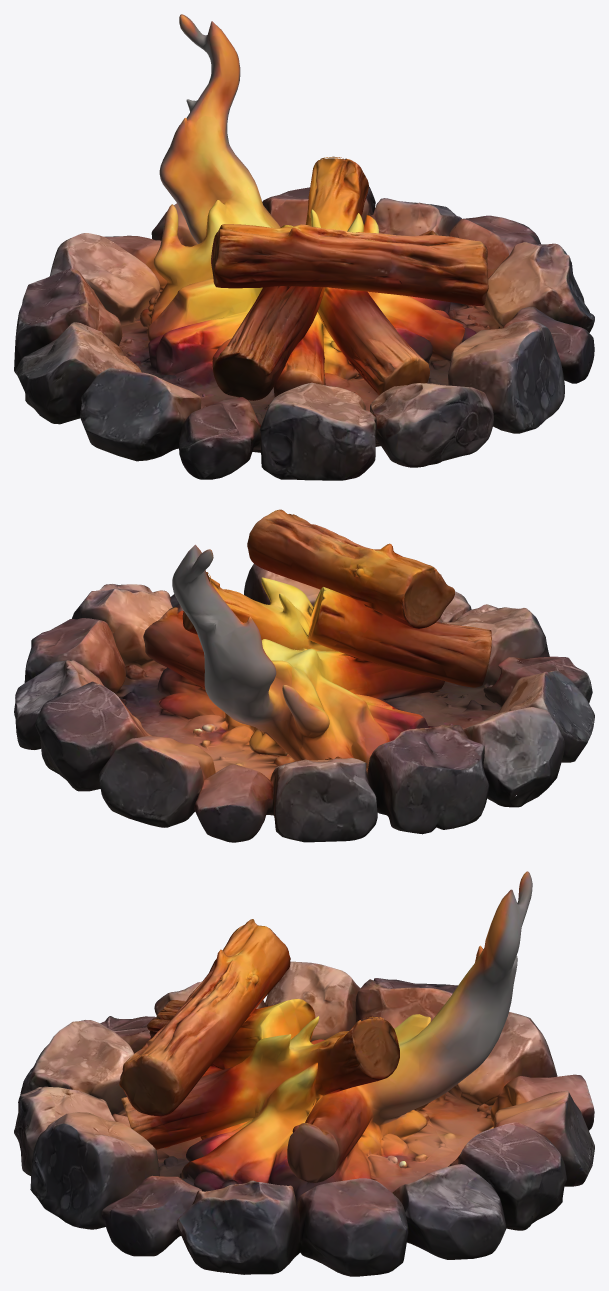
Rendered from campfire.glb.
3 views of the same model, one above another, from view 1: azimuth 30°, elevation 25°; view 2: azimuth 150°, elevation 25°; view 3: azimuth 270°, elevation 25° (orthographic). The views are drawn at different scales.
Visible parts, largest first — view 1: node_ebf617e1-01b0-4030-bcc8-7565f6062b28; view 2: node_ebf617e1-01b0-4030-bcc8-7565f6062b28; view 3: node_ebf617e1-01b0-4030-bcc8-7565f6062b28.
Part boxes in pixels (left/top/right/bottom): node_ebf617e1-01b0-4030-bcc8-7565f6062b28: left=14, top=14, right=594, bottom=480; node_ebf617e1-01b0-4030-bcc8-7565f6062b28: left=14, top=509, right=594, bottom=842; node_ebf617e1-01b0-4030-bcc8-7565f6062b28: left=14, top=871, right=594, bottom=1276.
Size of the model in its own units: 0.9813 by 0.4881 by 0.9148.
1 material, 1 textured.
